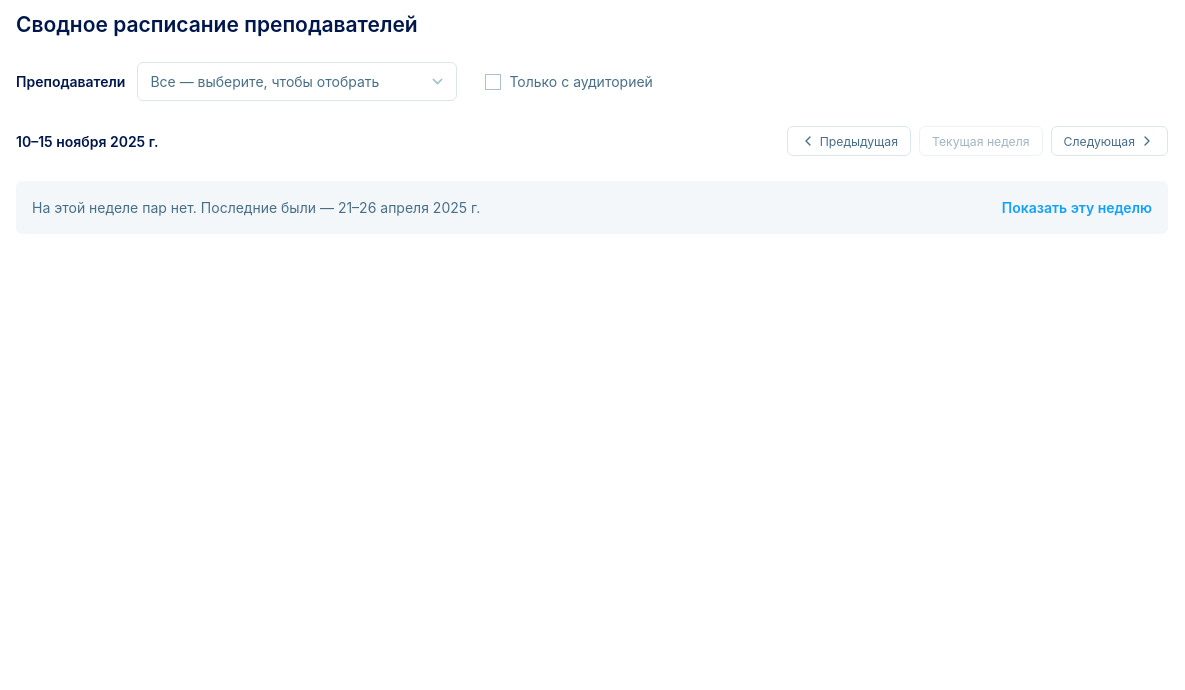
ScheduleSummaryPage (F-57) › на пустой неделе называет ближайшую неделю с парами
expect the text "На этой неделе пар нет. Последние были — 21–26 апреля 2025 г." is shown: met, box [32,197,480,218]
Click the button "Показать эту неделю" at (1077, 208), box [1002,197,1152,218]
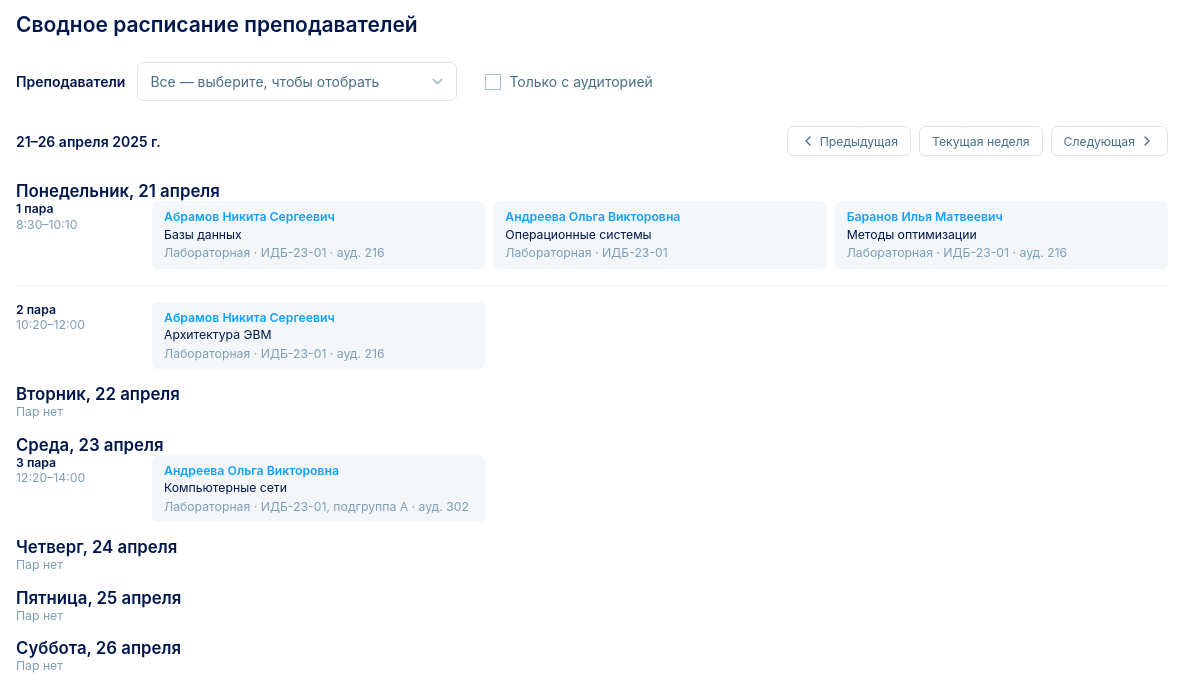
expect the text "21–26 апреля 2025 г." is shown: met, box [16,131,161,152]
expect the element "Понедельник, 21 апреля" is shown: met, box [16,181,1168,369]
